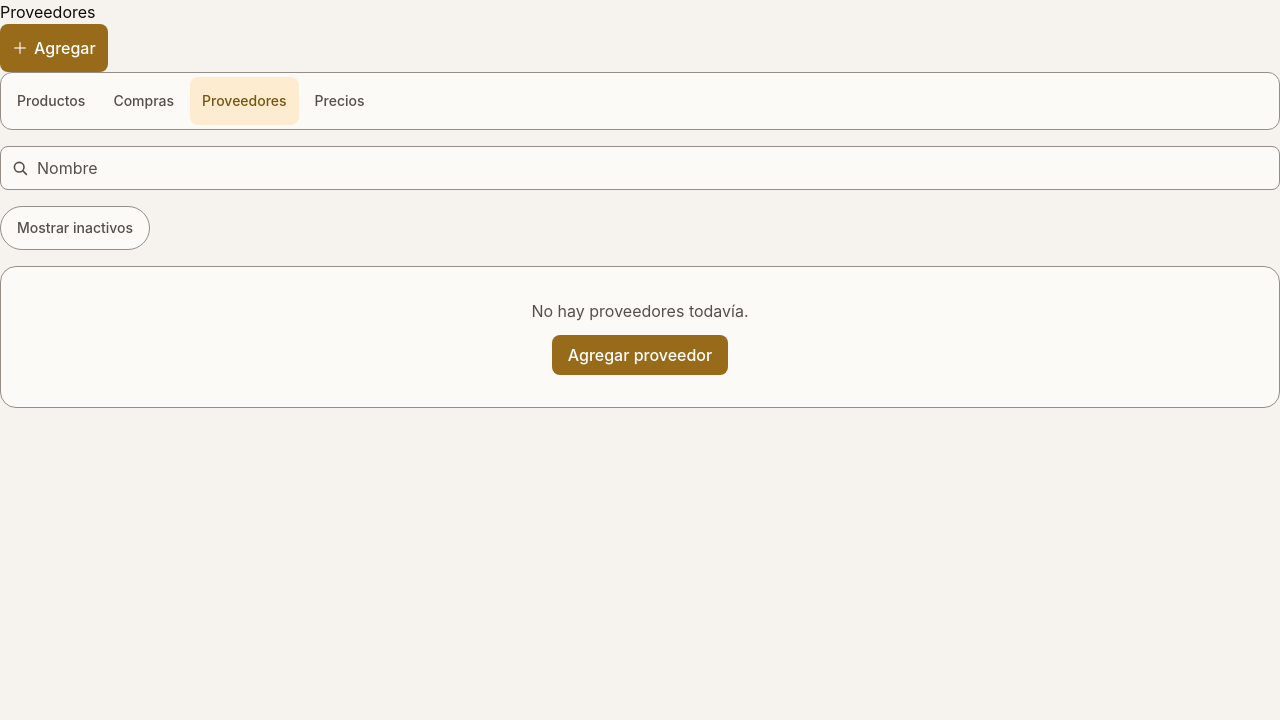
Test: Proveedores › alta › la sincronización (ack) que rechaza avisa con un toast en vez de quedar como unhandled rejection
Step 1. Click the button with aria-label "Agregar proveedor" → (54, 48), box [0,24,108,72]
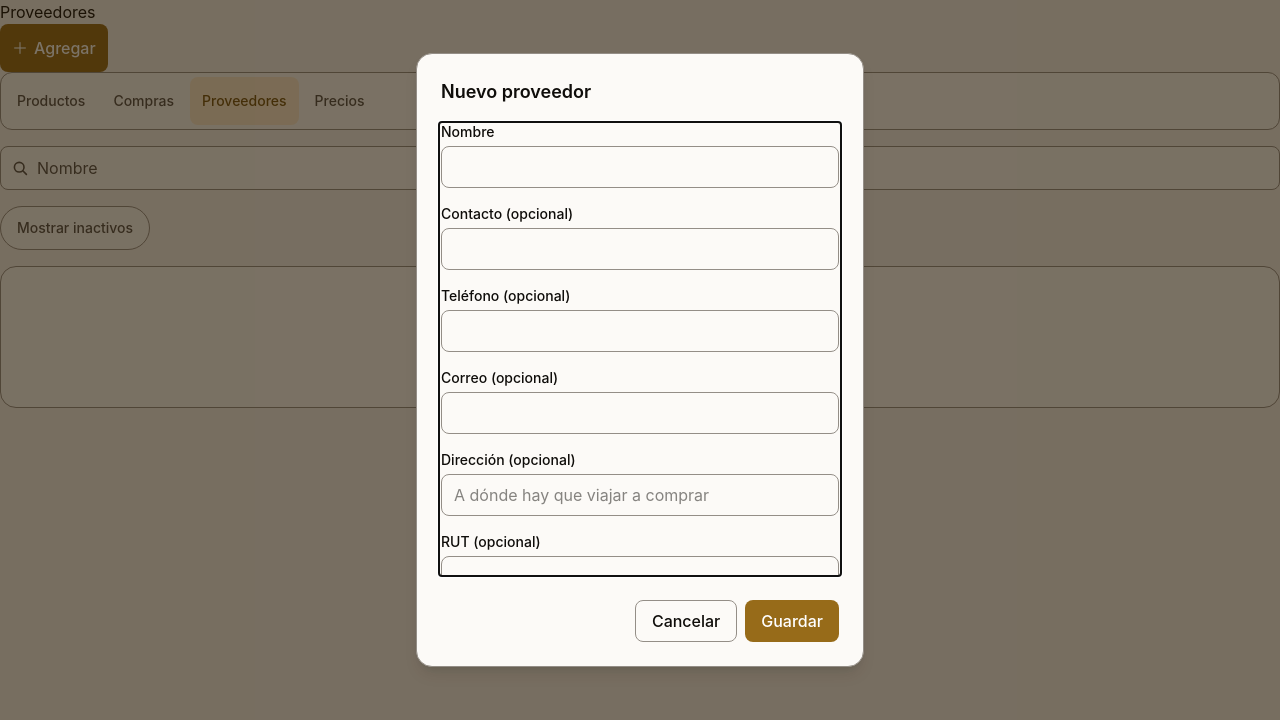
Step 2. Type "Quesos del Norte" into the field labelled "Nombre" → (640, 167), box [441,146,839,188]
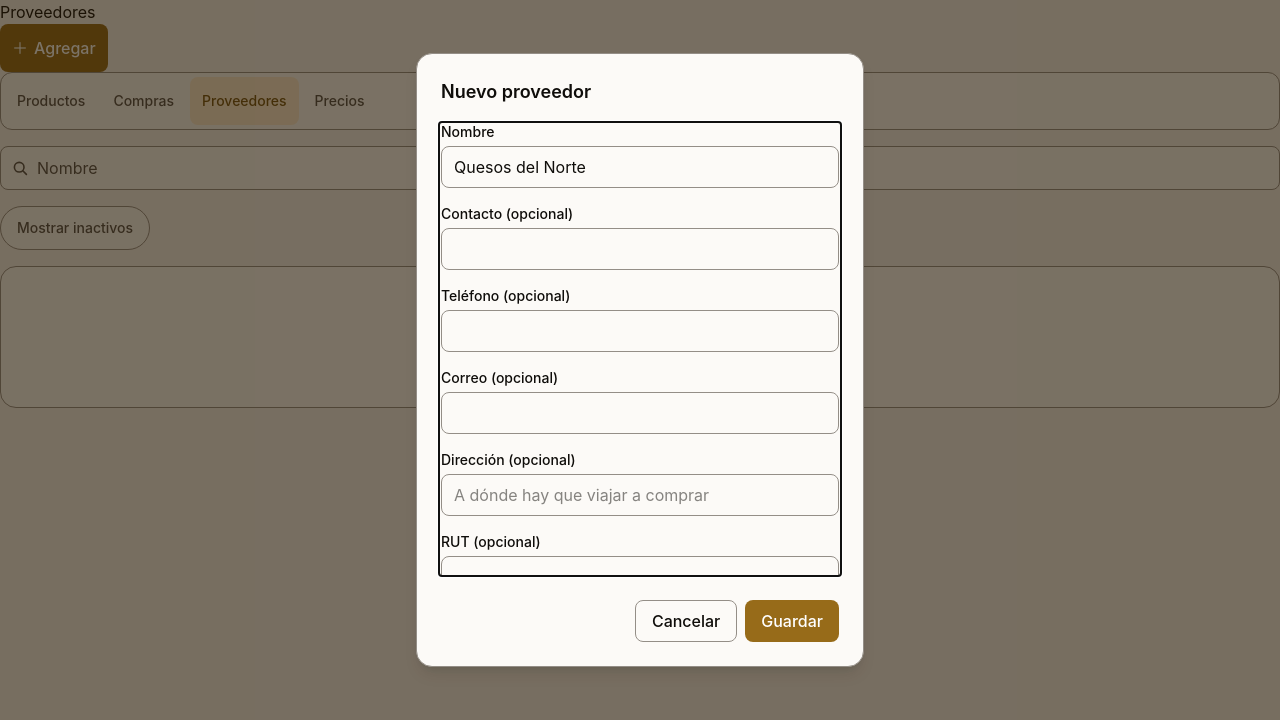
Step 3. Click the button "Guardar" → (792, 621), box [745,600,839,642]
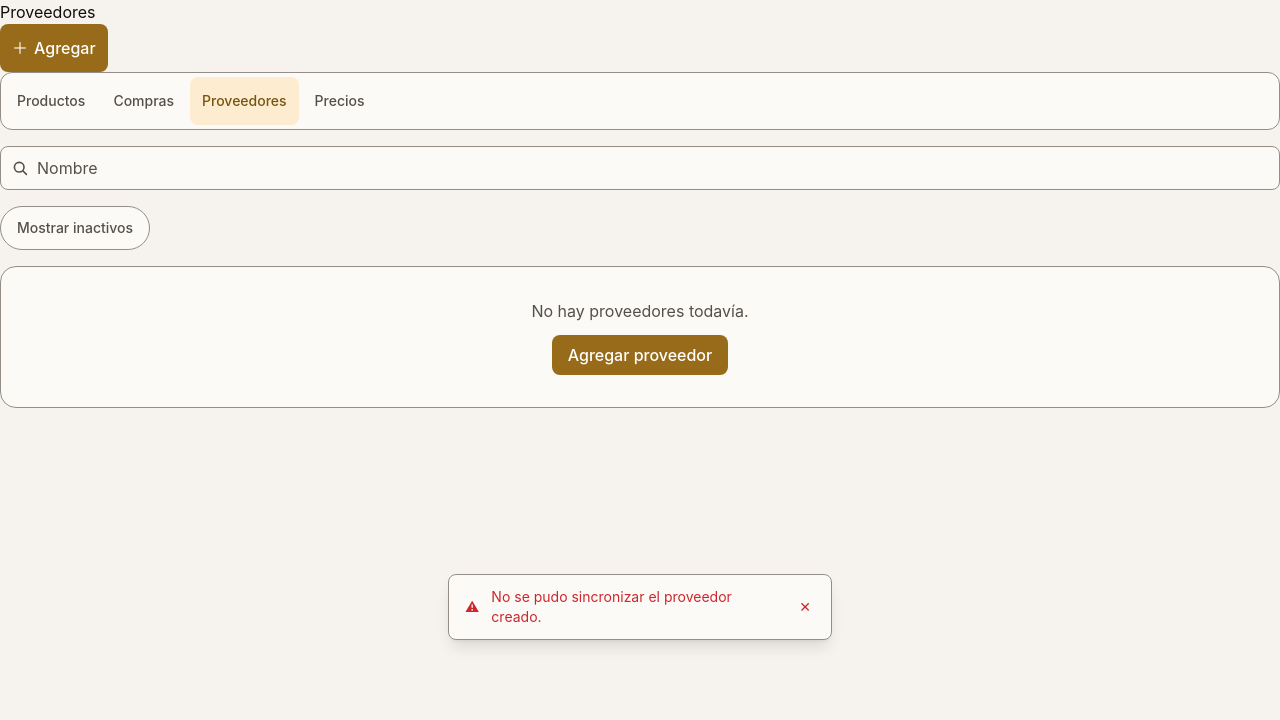
Expected: the text "No se pudo sincronizar el proveedor creado." is shown, [491,588,732,625]
